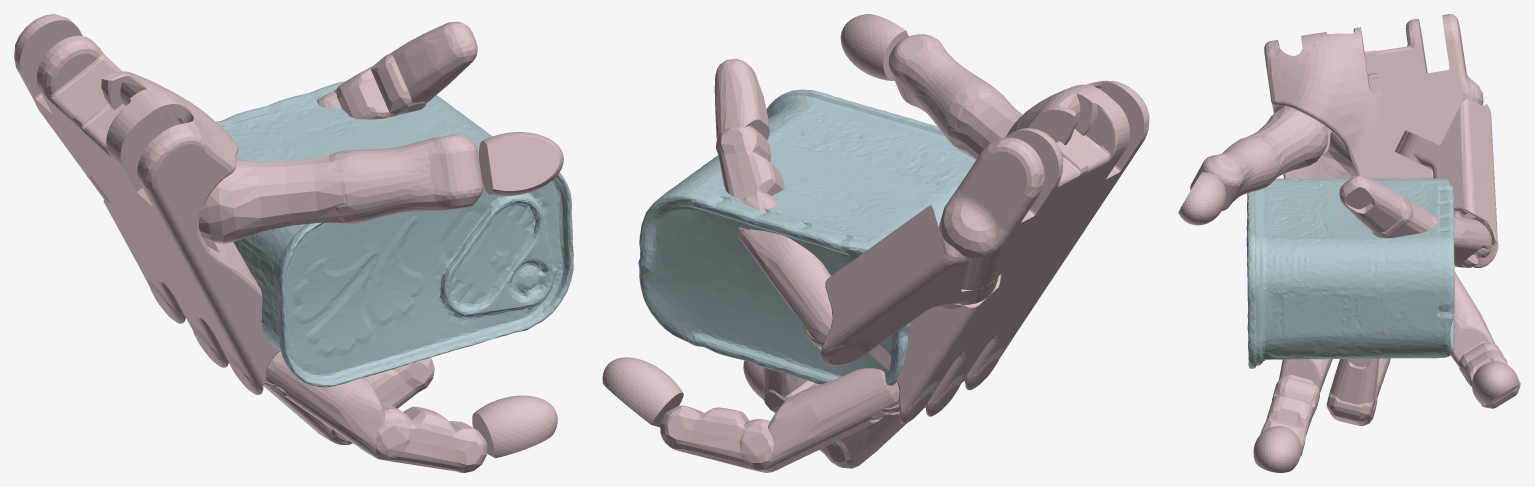
The model's file is grasp_6.glb.
3 renders of one model, left to right at view 1: azimuth 30°, elevation 25°; view 2: azimuth 150°, elevation 25°; view 3: azimuth 270°, elevation 25°, orthographic. The views are drawn at different scales.
Visible parts, largest first — view 1: world; view 2: world; view 3: world.
Boxes of the visible parts, x1,y1,x2,y2 form: world: (14,14,573,472); world: (602,14,1149,472); world: (1178,14,1520,472).
Size of the model in its own units: 0.1468 by 0.1476 by 0.1375.
